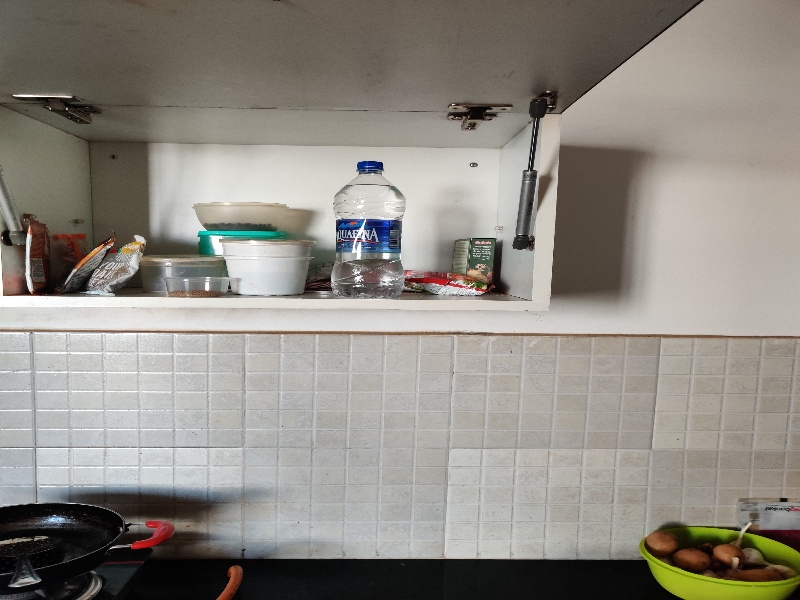bottle: (328, 150, 410, 296)
